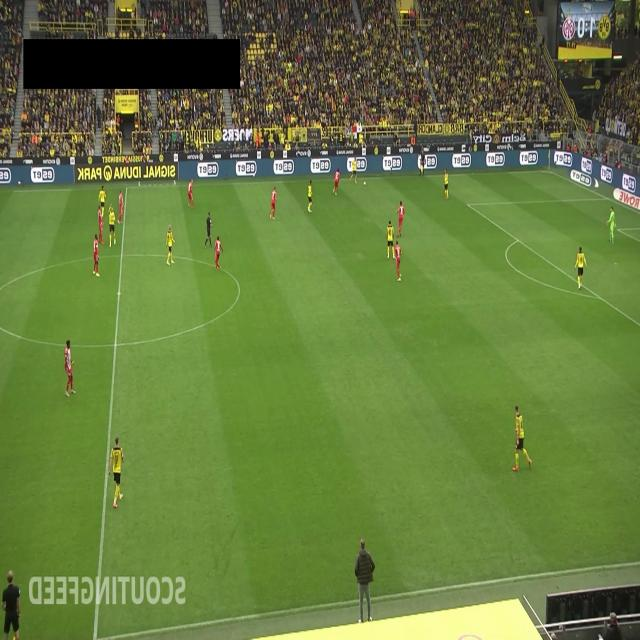ball: (363, 179, 366, 186)
goalkeeper: (606, 207, 616, 246)
player: (512, 404, 532, 472), (109, 436, 124, 509), (64, 339, 76, 398), (574, 246, 588, 289), (166, 224, 176, 265), (395, 200, 405, 237), (108, 204, 116, 248), (394, 239, 402, 281), (214, 235, 223, 271), (386, 220, 394, 259), (93, 234, 100, 276), (98, 185, 107, 217), (270, 187, 277, 220), (98, 206, 104, 244), (350, 157, 358, 184), (118, 190, 124, 224), (333, 167, 340, 196), (307, 180, 313, 212), (188, 178, 194, 208), (444, 167, 448, 199)
referee: (2, 570, 20, 640), (204, 212, 213, 248), (418, 146, 425, 176)
